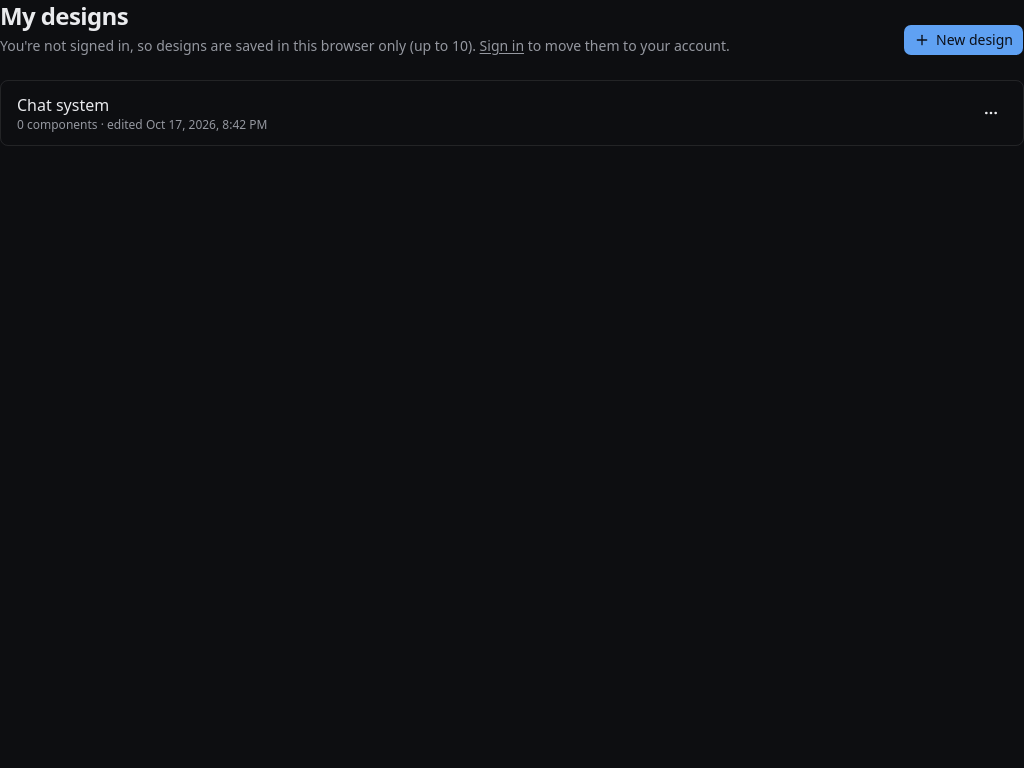
DesignsPage › shows guest designs from this browser and deletes after confirmation
Expected: the text "saved in this browser only" is shown, [0,36,452,55]
Click the button named "Actions for Chat system".
click(991, 113)  # box [975,97,1007,129]
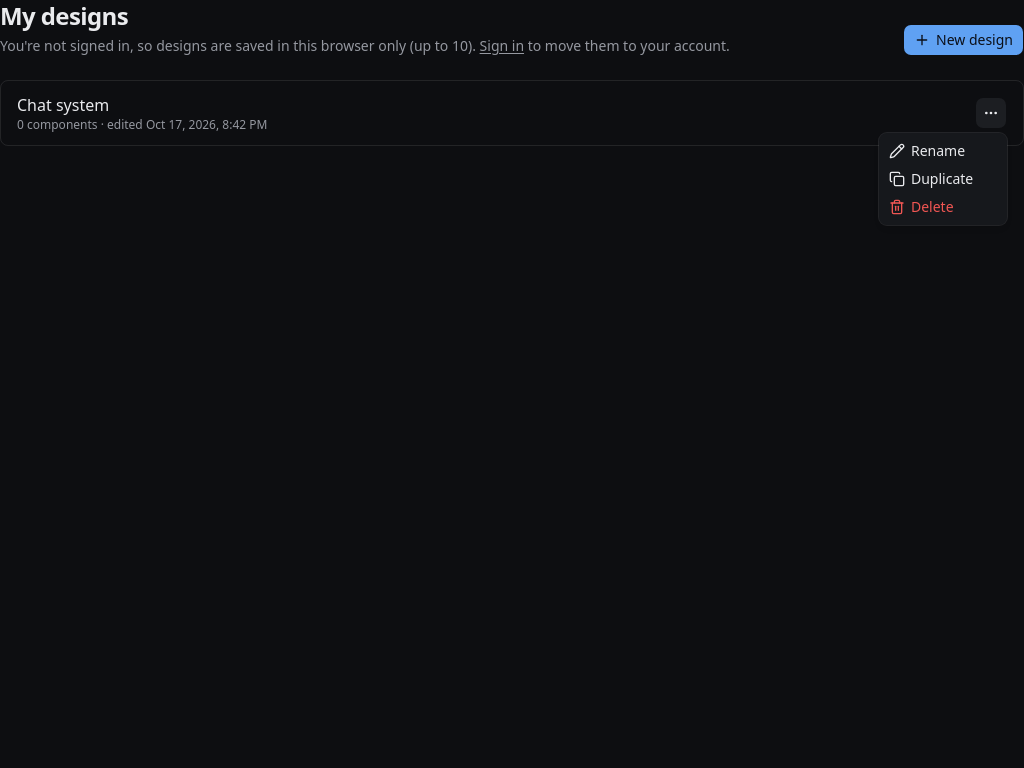
Click the menu item "Delete".
click(921, 206)  # box [889,197,954,216]
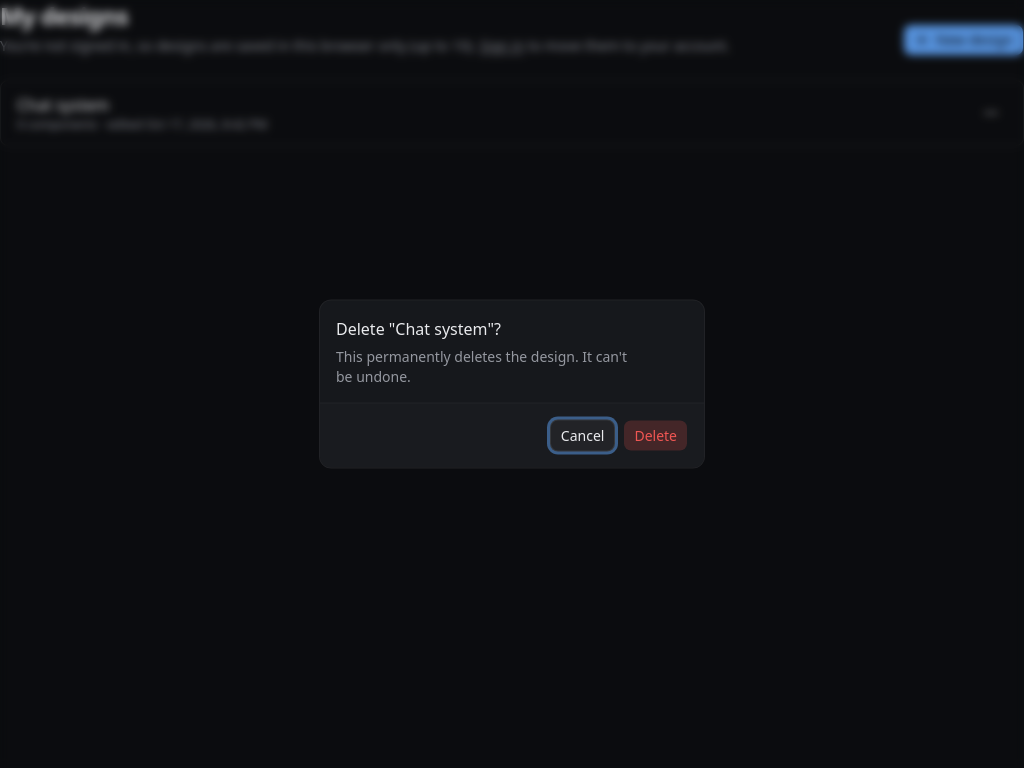
Click the button "Delete".
click(656, 436)  # box [623,420,688,452]
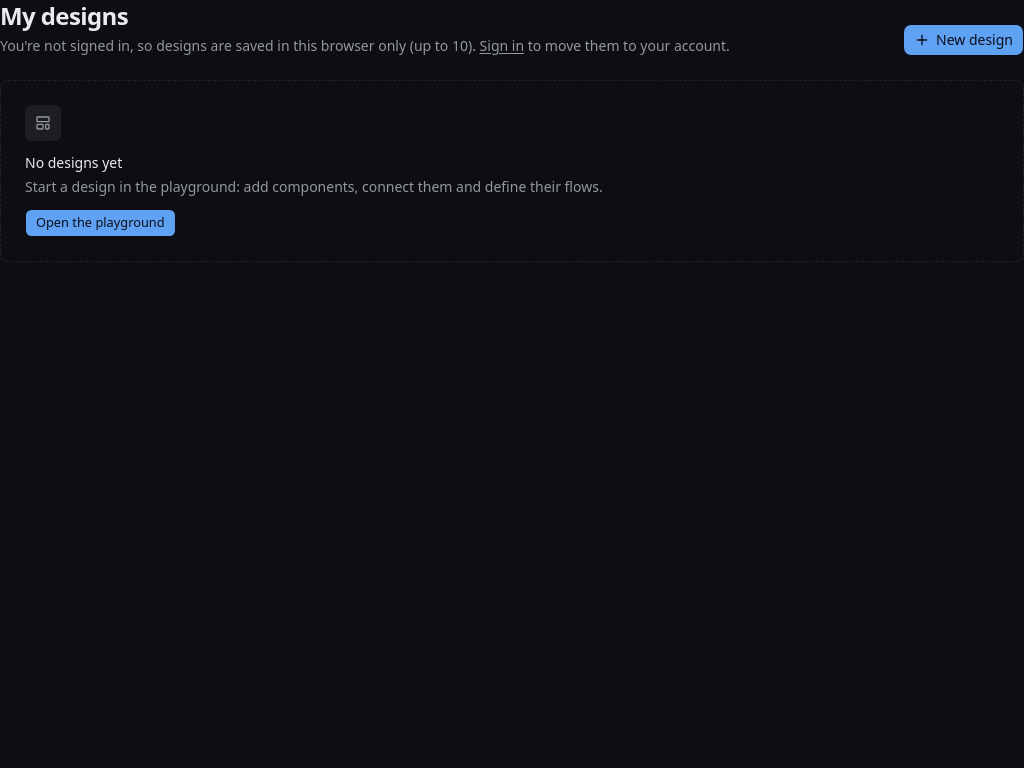
Expected: the heading "No designs yet" is shown, [25,153,122,172]
